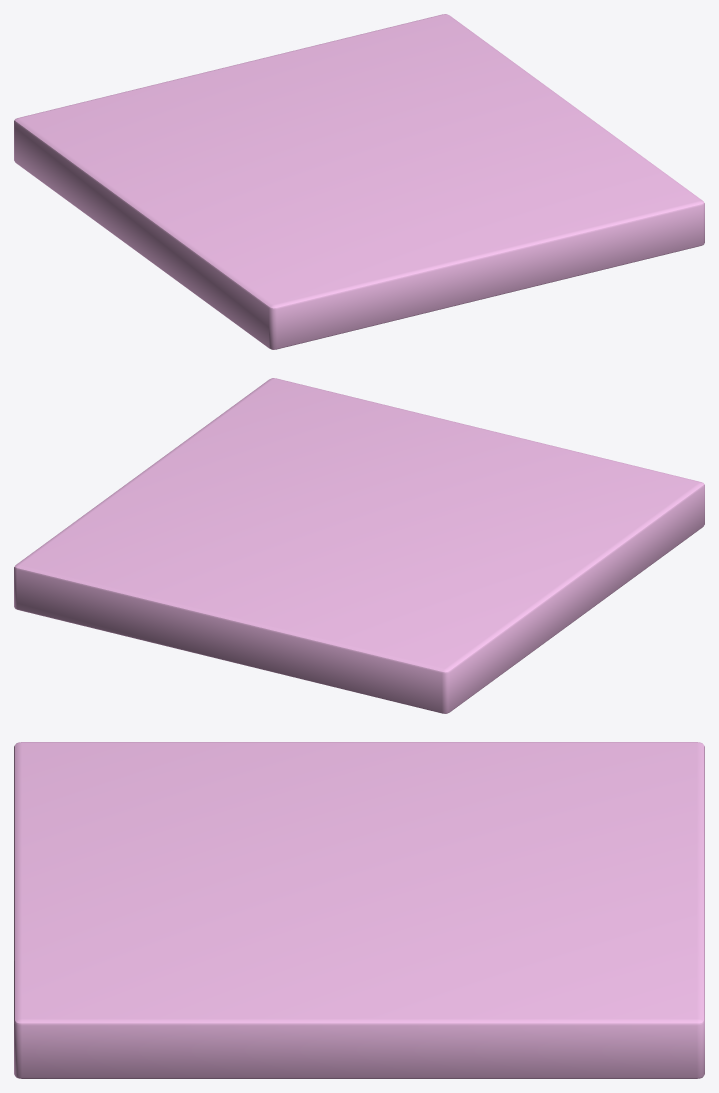
The model's file is Matress.fbx.
The picture shows the model from 3 angles, top to bottom: view 1: azimuth 30°, elevation 25°; view 2: azimuth 150°, elevation 25°; view 3: azimuth 270°, elevation 25°; orthographic projection. The views are drawn at different scales.
Parts seen in each view (by area): view 1: Matress; view 2: Matress; view 3: Matress.
Boxes of the visible parts, x1,y1,x2,y2 form: Matress: (14,14,704,349); Matress: (14,378,704,713); Matress: (14,742,704,1078).
Size of the model in its own units: 362 by 35.32 by 375.
